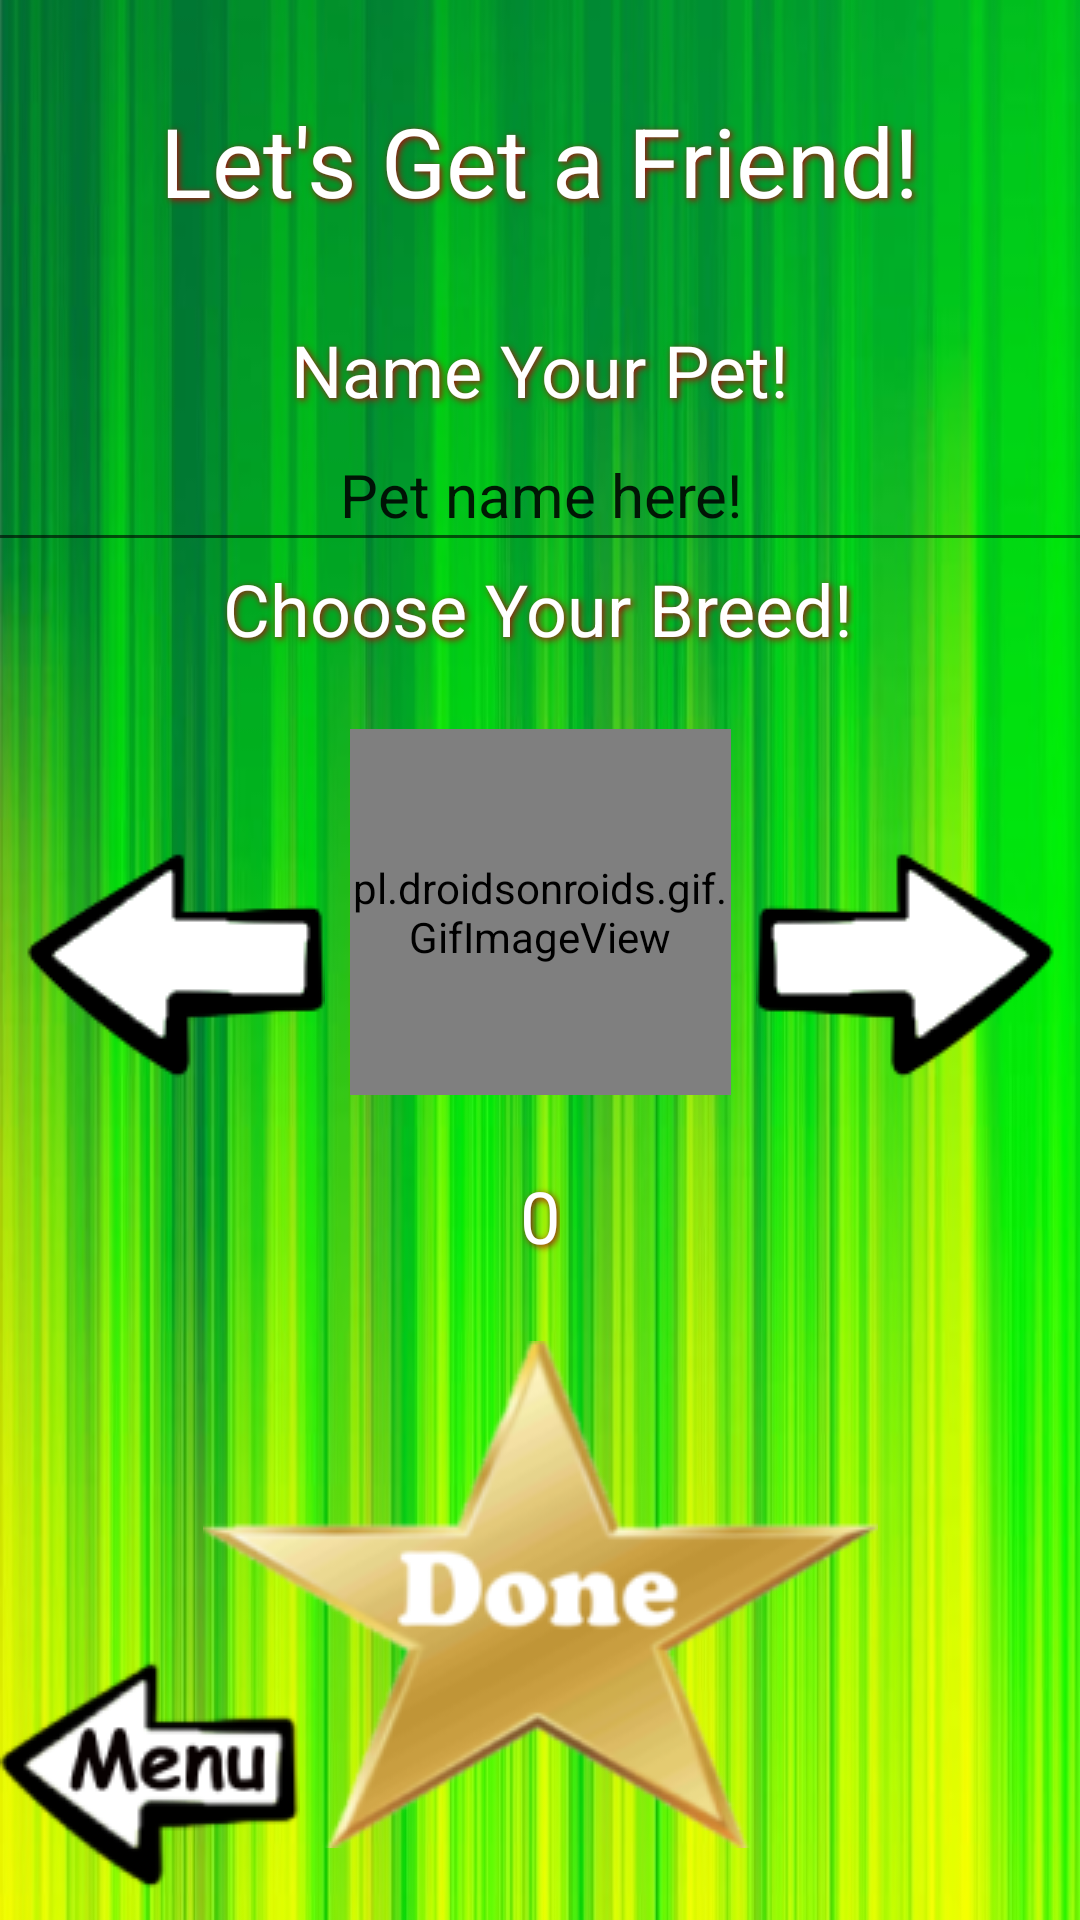

Icon click points for this 1080w x 1920h phone screenshot, format point (x, y):
left: point (175, 960)
right: point (906, 960)
